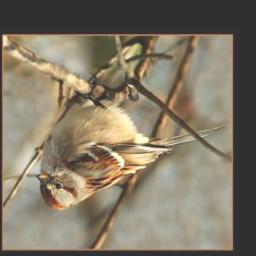Sparrow: (37, 71, 226, 211)
